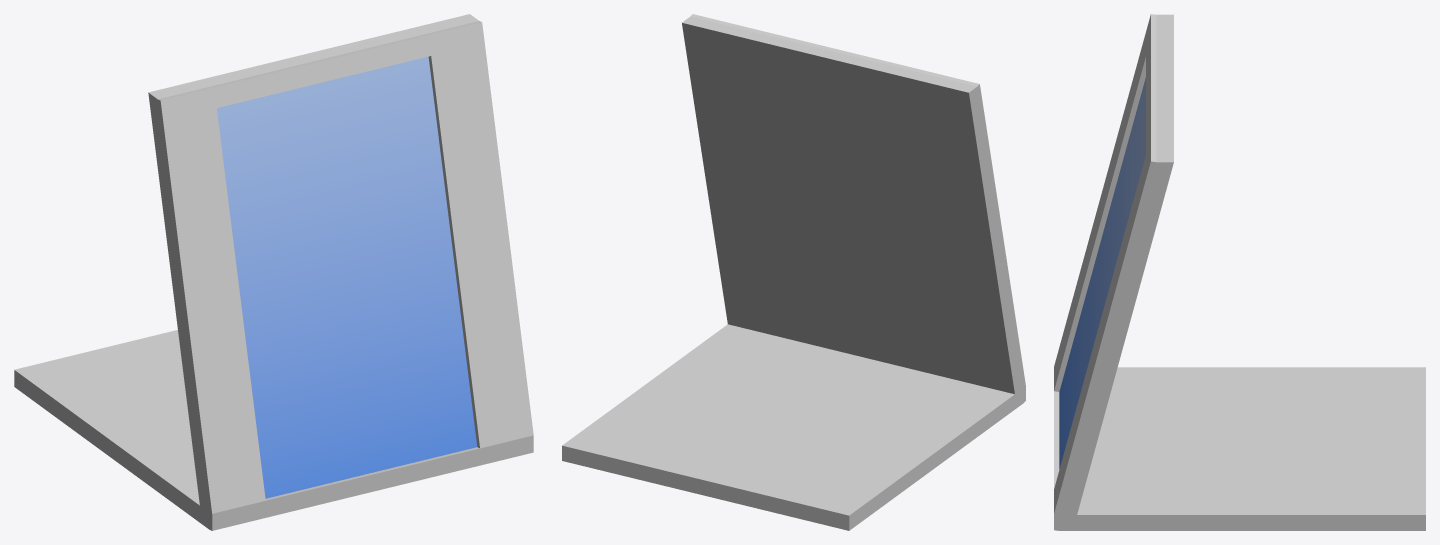
Rendered from Reception-Sign_01.fbx.
3 renders of one model, left to right at view 1: azimuth 30°, elevation 25°; view 2: azimuth 150°, elevation 25°; view 3: azimuth 270°, elevation 25°, orthographic. The views are drawn at different scales.
Parts seen in each view (by area): view 1: Sign_Image, Reception_Sign; view 2: Reception_Sign; view 3: Reception_Sign, Sign_Image.
Boxes of the visible parts, x1=… form: Sign_Image: x1=217, y1=56, x2=477, y2=498; Reception_Sign: x1=14, y1=14, x2=533, y2=530; Reception_Sign: x1=562, y1=14, x2=1025, y2=530; Reception_Sign: x1=1054, y1=14, x2=1425, y2=530; Sign_Image: x1=1059, y1=77, x2=1145, y2=469.
Size of the model in its own units: 0.2794 by 0.3267 by 0.2979.
